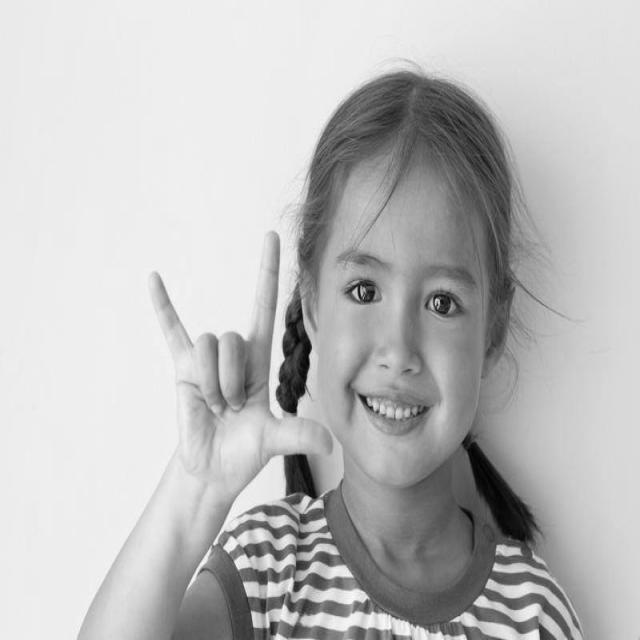i love you: (143, 220, 338, 520)
